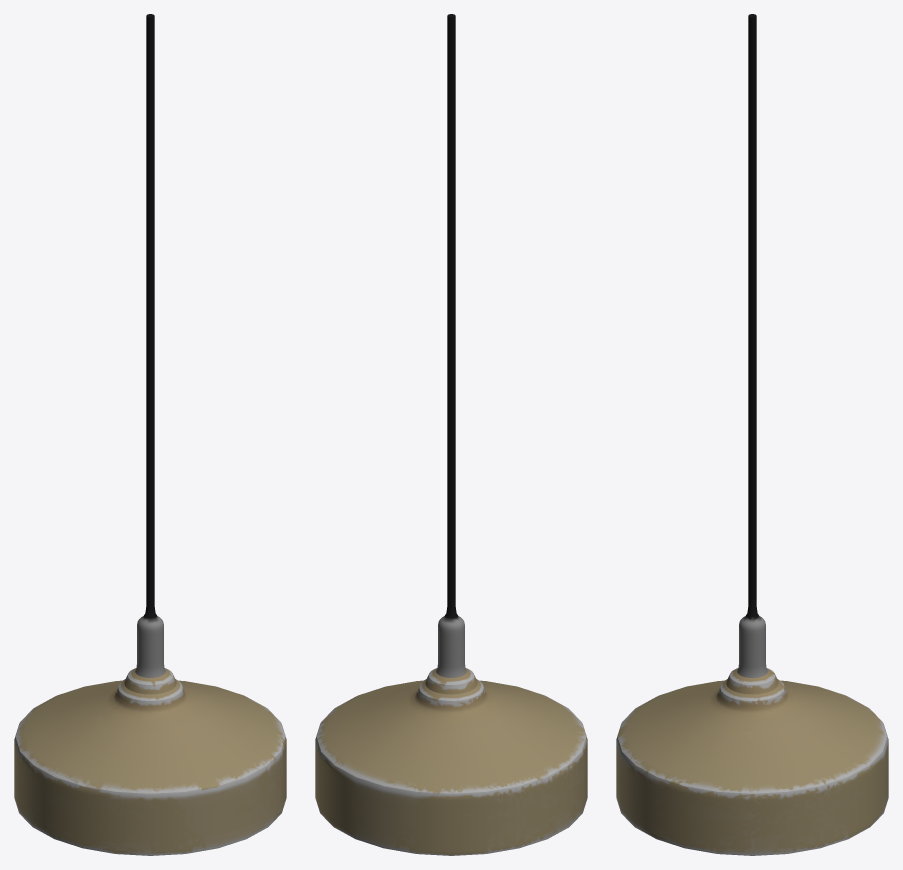
The picture shows the model from 3 angles, left to right: view 1: azimuth 30°, elevation 25°; view 2: azimuth 150°, elevation 25°; view 3: azimuth 270°, elevation 25°; orthographic projection.
Parts seen in each view (by area): view 1: BarCounterLamp; view 2: BarCounterLamp; view 3: BarCounterLamp.
Part boxes in pixels (x1,y1,x2,y2): BarCounterLamp: [14, 14, 286, 855]; BarCounterLamp: [315, 14, 587, 855]; BarCounterLamp: [616, 14, 888, 855].
Size of the model in its own units: 0.3821 by 1.25 by 0.3821.
Materials: 2 (2 with a texture image).
